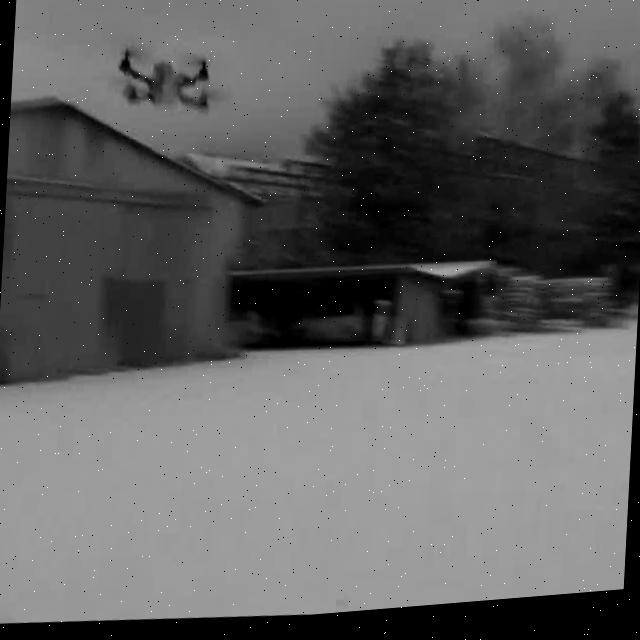drone: (111, 39, 212, 123)
